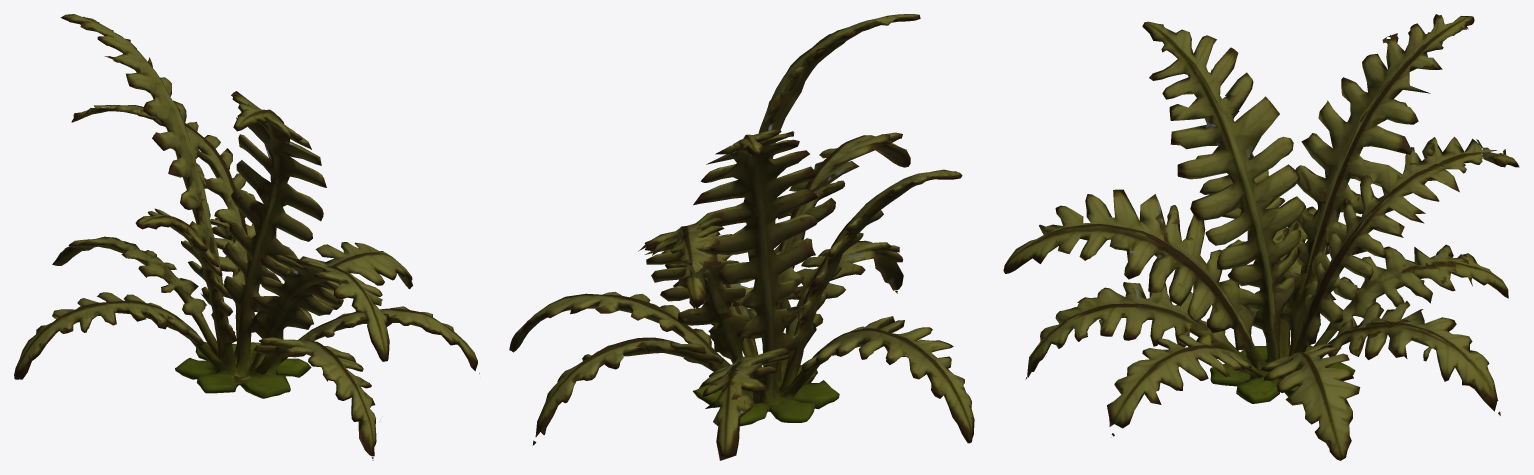
The model's file is SM_Utileria_MandoRemoto_01.fbx.
3 views of the same model, side by side, from view 1: azimuth 30°, elevation 25°; view 2: azimuth 150°, elevation 25°; view 3: azimuth 270°, elevation 25° (orthographic). The views are drawn at different scales.
Visible parts, largest first — view 1: SM_Utileria_MandoRemoto_01; view 2: SM_Utileria_MandoRemoto_01; view 3: SM_Utileria_MandoRemoto_01.
Boxes of the visible parts, left/top/right/bottom form: SM_Utileria_MandoRemoto_01: left=14, top=14, right=479, bottom=460; SM_Utileria_MandoRemoto_01: left=509, top=14, right=974, bottom=460; SM_Utileria_MandoRemoto_01: left=1003, top=14, right=1519, bottom=460.
Size of the model in its own units: 0.9106 by 0.6744 by 0.9788.
1 material, 1 textured.
